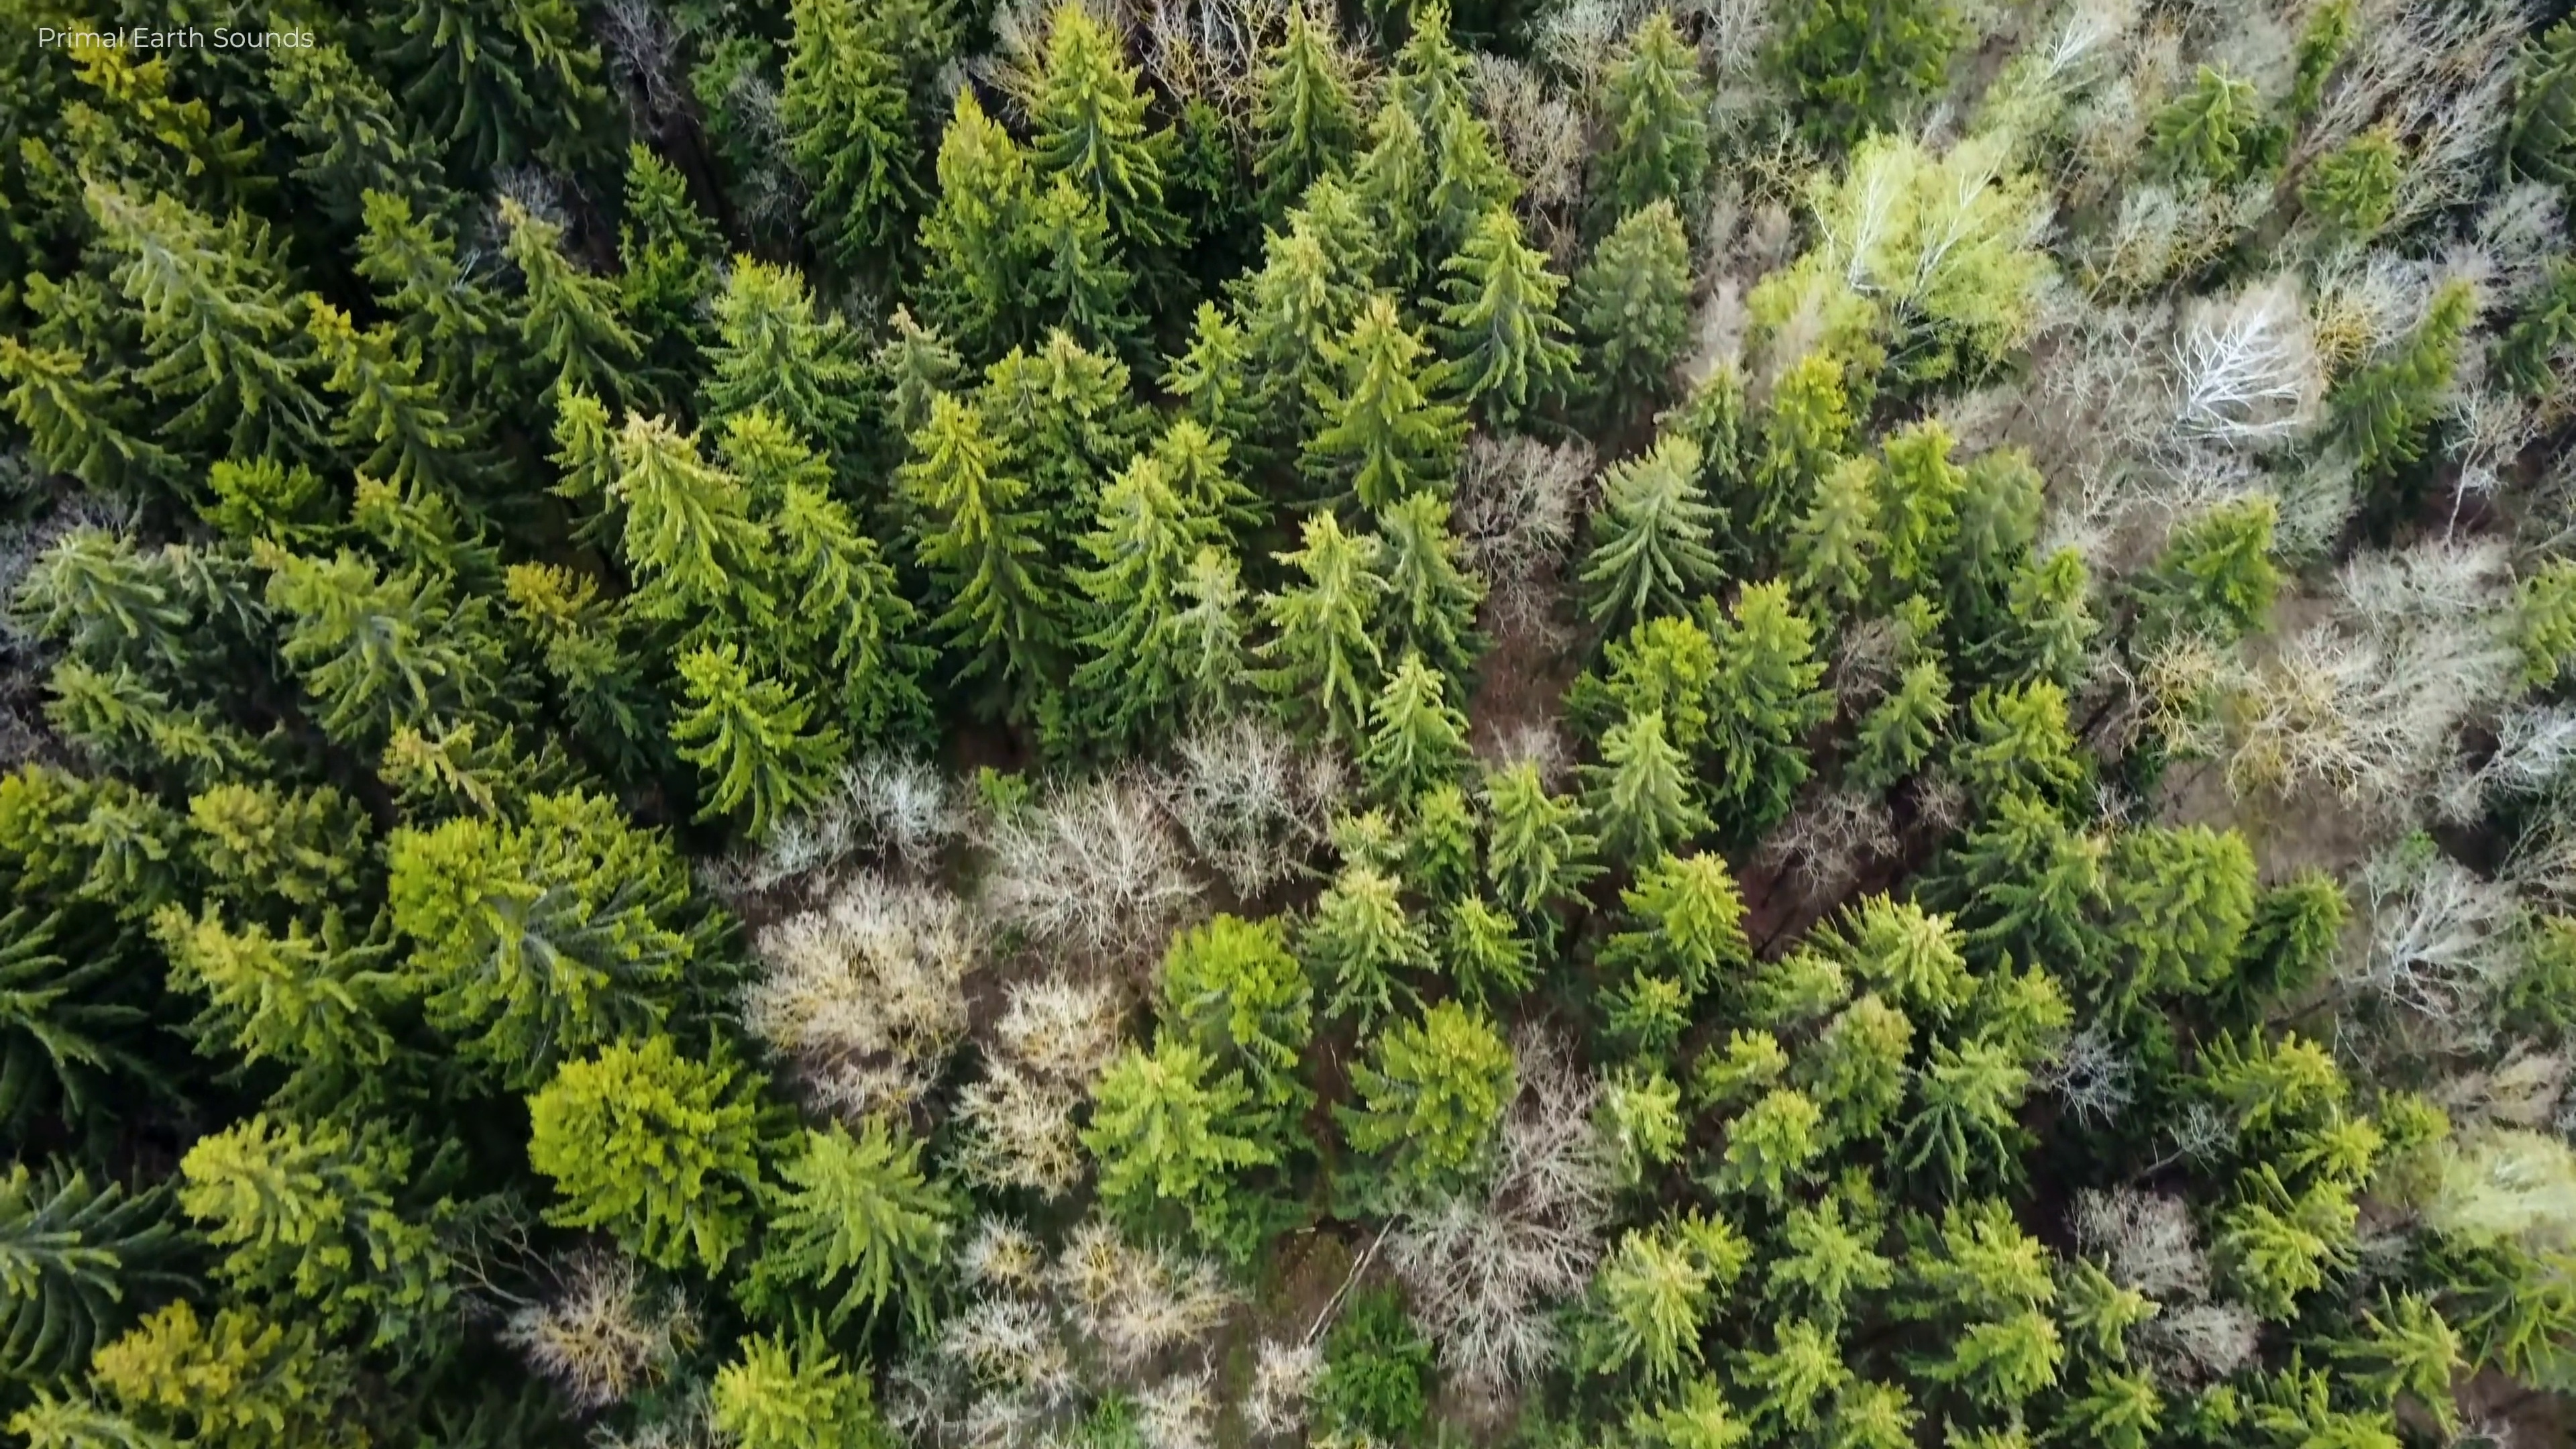tree: (533, 1039, 794, 1269), (396, 833, 683, 1003), (157, 908, 405, 1095), (906, 396, 1051, 706), (773, 478, 936, 734), (175, 1115, 375, 1304), (96, 1306, 336, 1449), (773, 1122, 952, 1313), (262, 540, 448, 715), (780, 0, 920, 228), (157, 272, 345, 433), (683, 653, 839, 835), (1366, 987, 1518, 1171), (1322, 299, 1456, 502), (697, 244, 855, 418), (1580, 1205, 1746, 1368), (2105, 821, 2261, 994), (502, 566, 642, 759), (616, 414, 754, 609), (487, 195, 621, 380), (1146, 913, 1316, 1060), (1585, 203, 1704, 409), (262, 53, 435, 191), (701, 1329, 892, 1449), (2332, 290, 2470, 456), (188, 780, 379, 897), (936, 83, 1031, 315), (1454, 219, 1564, 421), (304, 290, 433, 458), (1233, 221, 1330, 444), (1721, 580, 1840, 763), (1608, 16, 1713, 216), (1587, 704, 1716, 858), (1591, 439, 1713, 602), (1102, 1054, 1238, 1200), (48, 531, 189, 665), (1039, 18, 1145, 191), (2150, 497, 2289, 626), (993, 341, 1127, 474), (405, 11, 529, 152), (1576, 607, 1729, 722), (1256, 2, 1353, 179), (2141, 64, 2268, 198), (614, 134, 717, 294), (2194, 1024, 2353, 1127), (0, 326, 104, 479), (1863, 418, 1967, 568), (1614, 856, 1755, 966), (1290, 506, 1366, 702), (350, 464, 472, 586), (1801, 1001, 1925, 1122), (1907, 1042, 2033, 1161), (1913, 1205, 2059, 1304), (2309, 119, 2417, 249), (1299, 860, 1414, 982), (1477, 768, 1580, 899), (1306, 851, 1408, 980), (2254, 867, 2358, 993), (1936, 1311, 2070, 1407), (352, 189, 467, 301), (209, 458, 338, 557), (1382, 492, 1476, 628), (1263, 16, 1341, 177), (1983, 840, 2109, 938), (1957, 460, 2058, 577), (1849, 901, 1966, 1000), (1718, 1088, 1828, 1192), (1960, 678, 2077, 775), (44, 658, 156, 757), (1856, 656, 1948, 775), (85, 791, 186, 897), (1776, 1210, 1881, 1311), (1438, 104, 1520, 234), (1362, 101, 1428, 260), (1798, 464, 1877, 586), (1748, 1323, 1847, 1415), (2063, 1254, 2169, 1339), (727, 409, 828, 495), (1971, 955, 2074, 1035), (1598, 971, 1700, 1049), (552, 380, 617, 499), (1387, 662, 1453, 778), (1824, 1371, 1927, 1444), (32, 271, 119, 352), (1180, 303, 1244, 410), (2281, 1118, 2388, 1171), (1707, 1026, 1789, 1095)
